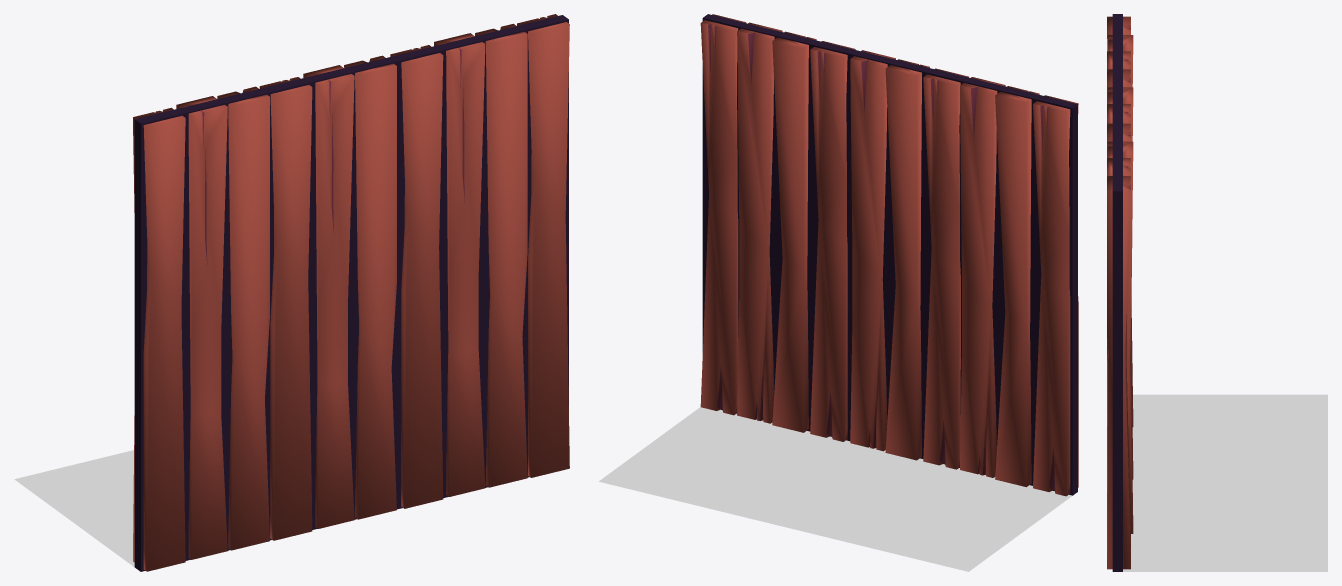
File: wall_p_1.glb
3 renders of one model, left to right at view 1: azimuth 30°, elevation 25°; view 2: azimuth 150°, elevation 25°; view 3: azimuth 270°, elevation 25°, orthographic. The views are drawn at different scales.
Parts seen in each view (by area): view 1: Cube.007, Cube.025, Cube.022, Cube.018, Cube.008, Cube.020, Cube.019, Cube.023, Cube.024, Cube.017, Cube.021, Plane.005; view 2: Plane.005, Cube.007, Cube.020, Cube.008, Cube.023, Cube.025, Cube.019, Cube.018, Cube.022, Cube.024, Cube.017, Cube.021; view 3: Plane.005, Cube.007, Cube.019, Cube.017, Cube.008, Cube.021, Cube.024, Cube.020.
Part boxes in pixels (left/top/right/bottom): Cube.007: left=134, top=15, right=568, bottom=571; Cube.025: left=133, top=107, right=185, bottom=571; Cube.022: left=259, top=77, right=312, bottom=540; Cube.018: left=390, top=45, right=443, bottom=508; Cube.008: left=475, top=23, right=527, bottom=487; Cube.020: left=344, top=55, right=396, bottom=519; Cube.019: left=517, top=14, right=569, bottom=477; Cube.023: left=217, top=86, right=269, bottom=550; Cube.024: left=176, top=96, right=227, bottom=559; Cube.017: left=434, top=33, right=485, bottom=496; Cube.021: left=303, top=65, right=354, bottom=528; Plane.005: left=14, top=450, right=134, bottom=566; Plane.005: left=599, top=407, right=1072, bottom=571; Cube.007: left=702, top=14, right=1077, bottom=495; Cube.020: left=850, top=50, right=895, bottom=451; Cube.008: left=737, top=22, right=782, bottom=423; Cube.023: left=960, top=77, right=1005, bottom=477; Cube.025: left=1033, top=95, right=1078, bottom=496; Cube.019: left=700, top=14, right=746, bottom=415; Cube.018: left=810, top=41, right=855, bottom=441; Cube.022: left=923, top=68, right=968, bottom=469; Cube.024: left=995, top=86, right=1039, bottom=487; Cube.017: left=772, top=31, right=816, bottom=432; Cube.021: left=885, top=59, right=929, bottom=460; Plane.005: left=1123, top=394, right=1327, bottom=571; Cube.007: left=1112, top=14, right=1122, bottom=571; Cube.019: left=1107, top=176, right=1130, bottom=569; Cube.017: left=1107, top=141, right=1133, bottom=533; Cube.008: left=1107, top=158, right=1130, bottom=539; Cube.021: left=1107, top=87, right=1133, bottom=479; Cube.024: left=1107, top=35, right=1133, bottom=426; Cube.020: left=1107, top=104, right=1130, bottom=157.
Bounding box in the file's own units: 4 × 4 × 2.1.
Materials: 2 (1 with a texture image).
